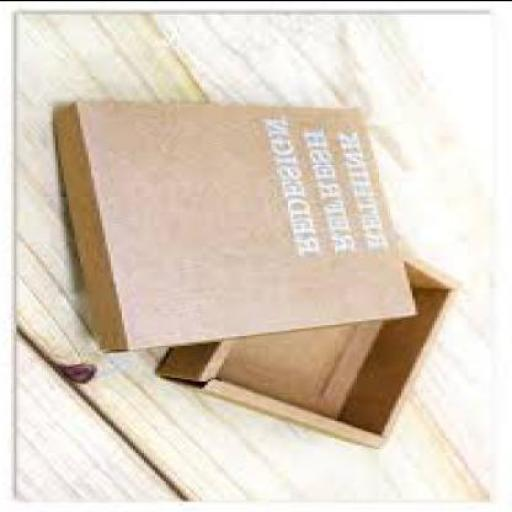cardboard: (56, 101, 424, 354), (158, 236, 462, 450)
